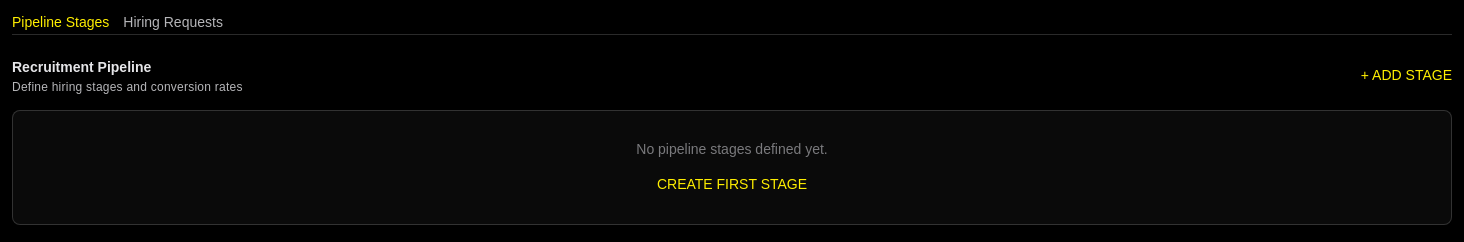
Test case: RecruitmentTab - Hiring Requests › displays "+ New Request" button on requests tab
This screenshot has width=1464, height=242.
Switch to requests tab
Click the button "Hiring Requests": (173, 23) [123, 12, 223, 34]
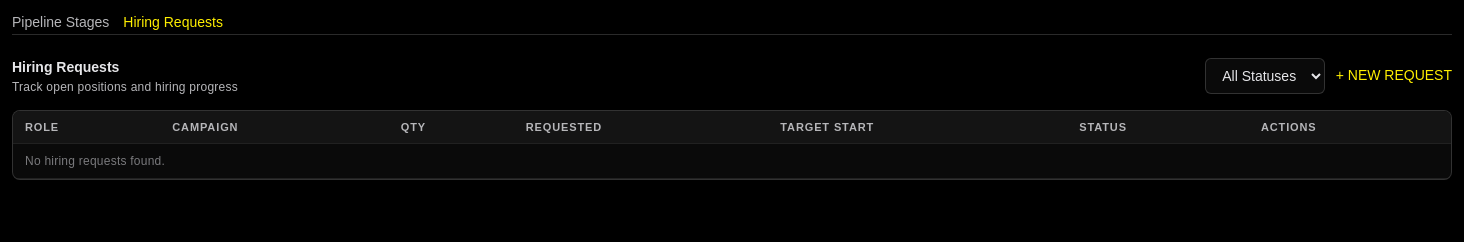
Expected: the button "+ New Request" is shown, [1336, 65, 1452, 86]
